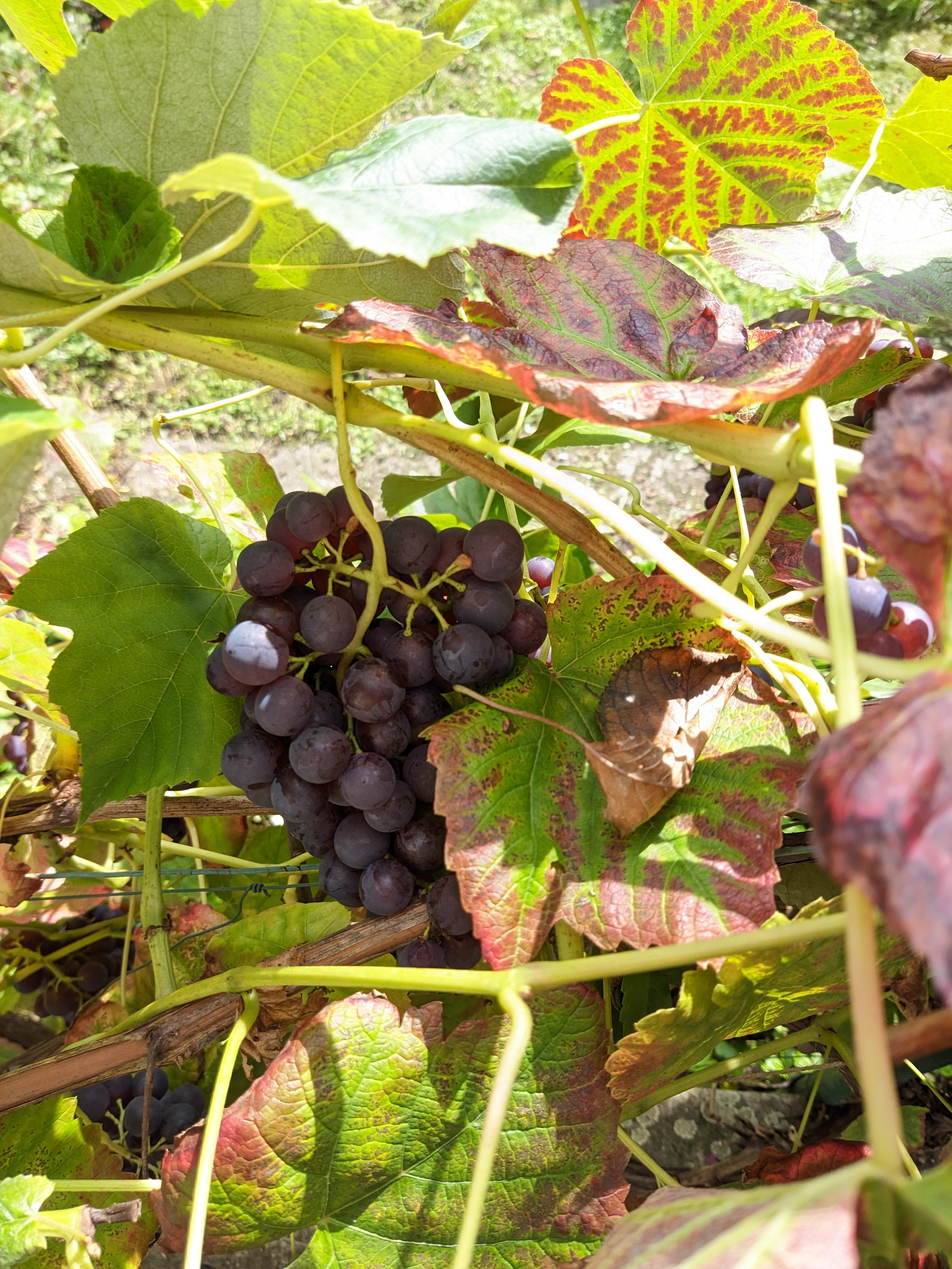Grape Ripe: (206, 485, 550, 995), (7, 904, 207, 1150), (799, 516, 944, 660)
